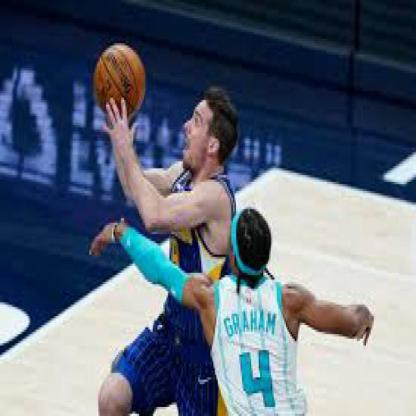basketball: (92, 43, 145, 121)
